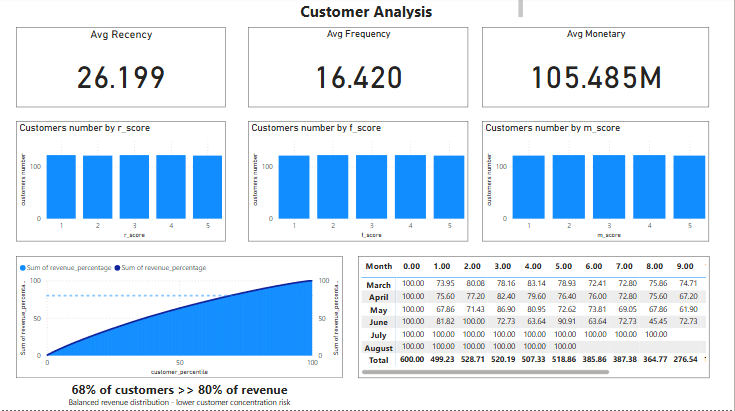

What the dashboard file says about the page in this screenshot:
{"tool":"powerbi","page":{"name":"Page 2","canvas":[1280,720],"ordinal":1},"visuals":[{"type":"card","title":"Avg Frequency","fields":{"Values":["public rfm_analysis.Avg Frequency"]},"box":[432.8,51.8,384,140.2],"z":0},{"type":"card","title":"Avg Monetary","fields":{"Values":["public rfm_analysis.Avg Monetary"]},"box":[841.1,51.8,396.2,140.2],"z":1000},{"type":"card","title":"Avg Recency","fields":{"Values":["public rfm_analysis.Avg Recency"]},"box":[27.4,51.8,365.7,140.2],"z":2000},{"type":"textbox","box":[368.8,0,548.6,42.7],"z":3000},{"type":"clusteredColumnChart","title":"Customers number by r_score","fields":{"Category":["public rfm_analysis.r_score"],"Y":["public rfm_analysis.customers number"]},"box":[27.4,216.4,365.7,210.3],"z":4000},{"type":"clusteredColumnChart","title":"Customers number by f_score","fields":{"Category":["public rfm_analysis.f_score"],"Y":["public rfm_analysis.customers number"]},"box":[432.8,216.4,384,210.3],"z":5000},{"type":"clusteredColumnChart","title":"Customers number by m_score","fields":{"Category":["public rfm_analysis.m_score"],"Y":["public rfm_analysis.customers number"]},"box":[841.1,216.4,396.2,210.3],"z":6000},{"type":"lineStackedColumnComboChart","fields":{"Category":["public pareto_analysis.customer_percentile"],"Y":["Sum(public pareto_analysis.revenue_percentage)"],"Y2":["Sum(public pareto_analysis.revenue_percentage)"]},"box":[27.4,451,569.9,213.3],"z":7000},{"type":"pivotTable","fields":{"Rows":["public cohort_analysis.cohort_month.Variation.Date Hierarchy.Month"],"Columns":["public cohort_analysis.month_number"],"Values":["Sum(public cohort_analysis.retention_rate)"]},"box":[624.8,451,612.6,213.3],"z":8000},{"type":"textbox","box":[27.4,664.4,569.9,54.9],"z":9000}]}

Visuals, with their boxes in screenshot pixels (x1, y1, x2, y2), scaled from the page's 1280x720 canvas onto the 735x411 screenshot:
"Avg Frequency" card: [left=249, top=30, right=469, bottom=110]
"Avg Monetary" card: [left=483, top=30, right=710, bottom=110]
"Avg Recency" card: [left=16, top=30, right=226, bottom=110]
textbox: [left=212, top=0, right=527, bottom=24]
"Customers number by r_score" clusteredColumnChart: [left=16, top=124, right=226, bottom=244]
"Customers number by f_score" clusteredColumnChart: [left=249, top=124, right=469, bottom=244]
"Customers number by m_score" clusteredColumnChart: [left=483, top=124, right=710, bottom=244]
lineStackedColumnComboChart - public pareto_analysis.customer_percentile x Sum(public pareto_analysis.revenue_percentage): [left=16, top=257, right=343, bottom=379]
pivotTable - public cohort_analysis.cohort_month.Variation.Date Hierarchy.Month x public cohort_analysis.month_number: [left=359, top=257, right=711, bottom=379]
textbox: [left=16, top=379, right=343, bottom=410]
